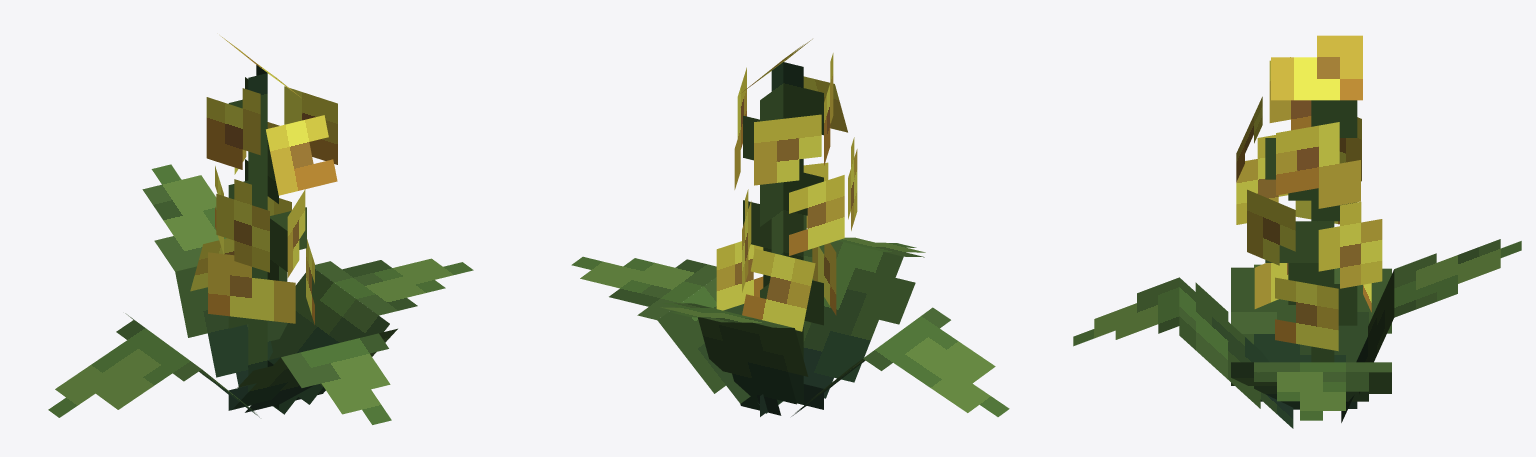
Rendered from flower_yellow.glb.
The picture shows the model from 3 angles, left to right: view 1: azimuth 30°, elevation 25°; view 2: azimuth 150°, elevation 25°; view 3: azimuth 270°, elevation 25°; orthographic projection. The views are drawn at different scales.
Visible parts, largest first — view 1: cube (×17); view 2: cube (×19); view 3: cube (×18).
Boxes of the visible parts, bbox=[...] form: cube (×17): bbox=[48, 65, 473, 424]; cube (×19): bbox=[571, 53, 1009, 416]; cube (×18): bbox=[1073, 35, 1521, 428].
Size of the model in its own units: 1.32 by 1.13 by 1.22.
Materials: 1 (1 with a texture image).
